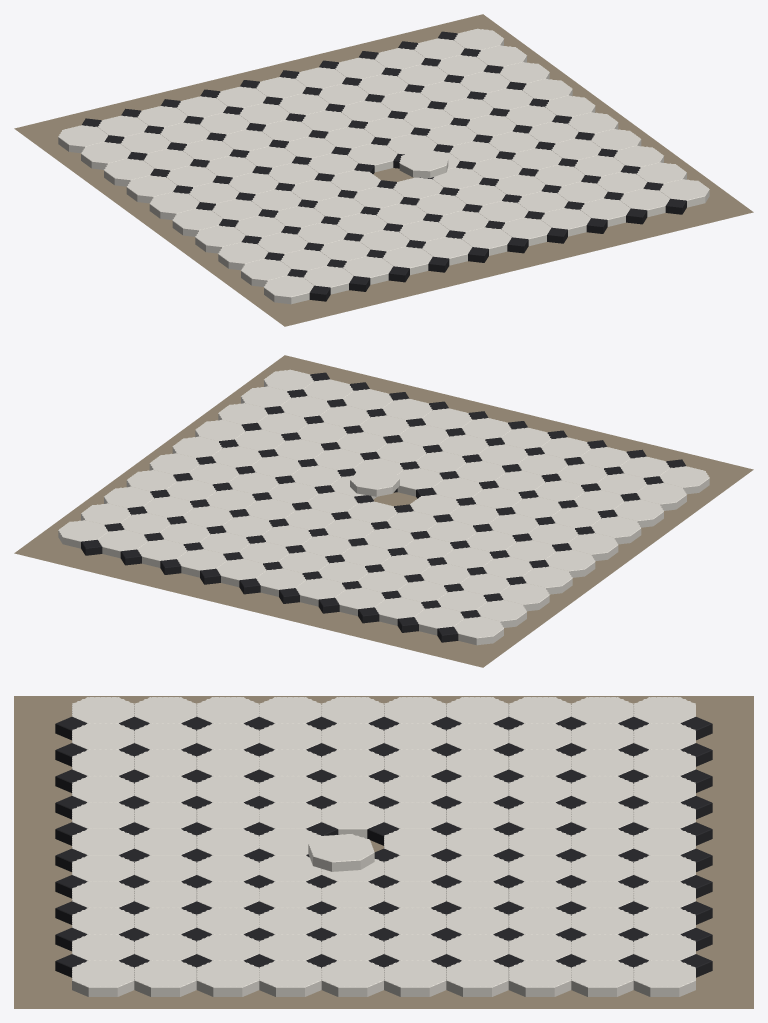
The model's file is terilgan.glb.
3 views of the same model, one above another, from view 1: azimuth 30°, elevation 25°; view 2: azimuth 150°, elevation 25°; view 3: azimuth 270°, elevation 25° (orthographic). The views are drawn at different scales.
Visible parts, largest first — view 1: qum, t.114, t.001, t.013, t.019, t.009, t.011, t.007, t.005, t.003, t.015, t.017 (+98 smaller); view 2: qum, t.114, t.019, t.007, t.001, t.009, t.011, t.013, t.015, t.005, t.017, t.003 (+97 smaller); view 3: qum, t.114, t.212, t.217, t.211, t.218, t.213, t.216, t.210, t.214, t.215, t.219 (+99 smaller).
Boxes of the visible parts, <box> form: qum: <box>14,14,753,326</box>; t.114: <box>399,150,448,178</box>; t.001: <box>264,275,313,304</box>; t.013: <box>126,175,176,203</box>; t.019: <box>58,125,108,153</box>; t.009: <box>172,208,222,236</box>; t.011: <box>149,192,199,219</box>; t.007: <box>195,225,245,253</box>; t.005: <box>218,242,268,270</box>; t.003: <box>241,259,290,286</box>; t.015: <box>104,158,153,186</box>; t.017: <box>81,142,130,169</box>; qum: <box>14,355,753,667</box>; t.114: <box>350,468,399,496</box>; t.019: <box>454,616,503,645</box>; t.007: <box>591,516,641,544</box>; t.001: <box>659,466,709,494</box>; t.009: <box>568,533,618,560</box>; t.011: <box>545,549,595,577</box>; t.013: <box>522,566,572,594</box>; t.015: <box>499,583,549,611</box>; t.005: <box>614,499,663,527</box>; t.017: <box>477,600,526,627</box>; t.003: <box>637,483,686,510</box>; qum: <box>14,696,753,1008</box>; t.114: <box>308,834,374,871</box>; t.212: <box>196,960,259,996</box>; t.217: <box>508,960,571,996</box>; t.211: <box>134,960,196,996</box>; t.218: <box>571,960,633,996</box>; t.213: <box>259,960,321,996</box>; t.216: <box>446,960,508,996</box>; t.210: <box>72,960,134,996</box>; t.214: <box>321,960,383,996</box>; t.215: <box>384,960,446,996</box>; t.219: <box>633,960,695,996</box>.
Bounding box in the file's own units: 1.66 × 0.052 × 1.66.
